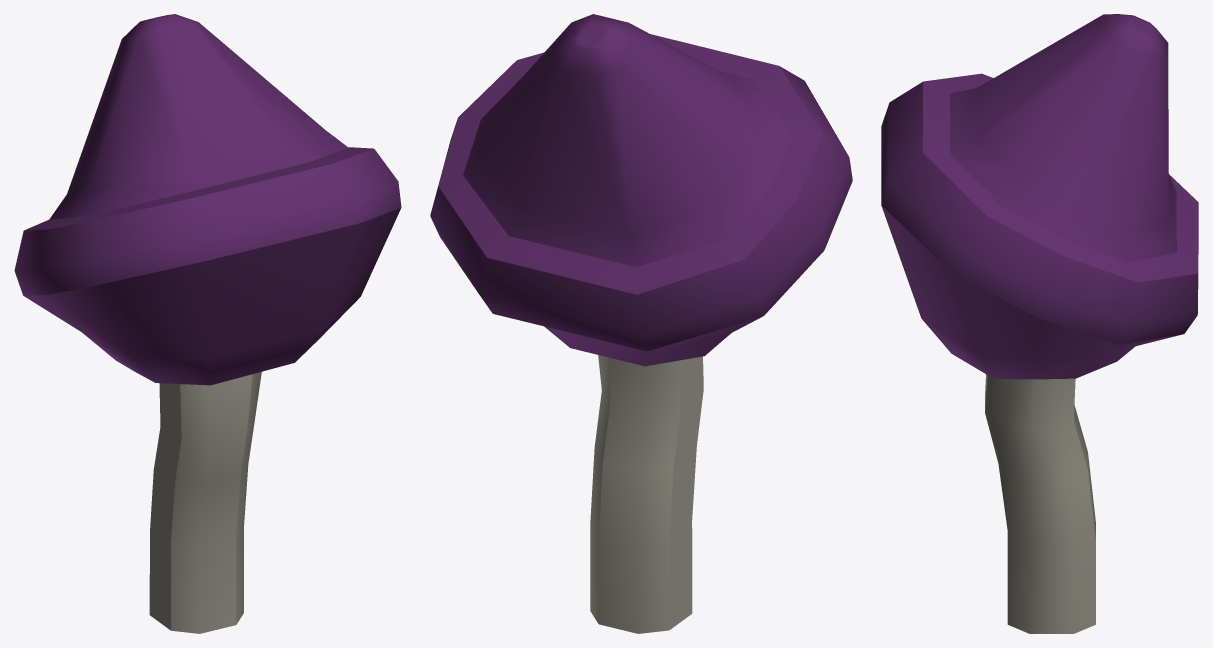
Rendered from Mushroom_02.fbx.
3 renders of one model, left to right at view 1: azimuth 30°, elevation 25°; view 2: azimuth 150°, elevation 25°; view 3: azimuth 270°, elevation 25°, orthographic. The views are drawn at different scales.
Visible parts, largest first — view 1: Champi_02; view 2: Champi_02; view 3: Champi_02.
Boxes of the visible parts, x1=… form: Champi_02: x1=14, y1=14, x2=401, y2=633; Champi_02: x1=430, y1=14, x2=852, y2=633; Champi_02: x1=881, y1=14, x2=1198, y2=633.
Size of the model in its own units: 0.2322 by 0.3724 by 0.1794.
